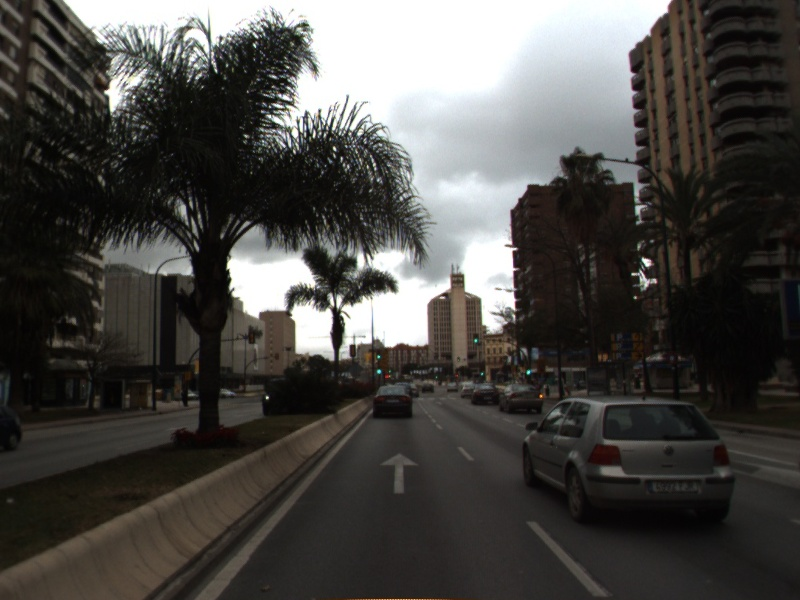STRAIGHT: (377, 451, 422, 496)
STRAIGHT_RIGHT: (729, 458, 800, 492)
